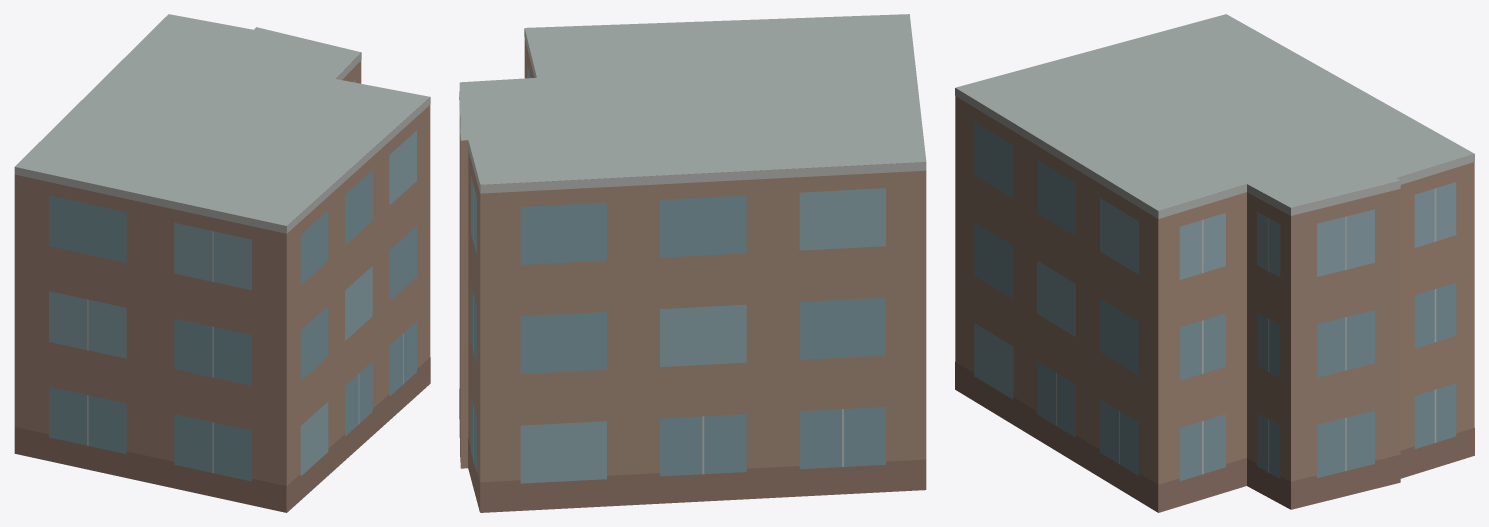
File: survey-upis-32656646.glb
The picture shows the model from 3 angles, left to right: view 1: azimuth 30°, elevation 25°; view 2: azimuth 150°, elevation 25°; view 3: azimuth 270°, elevation 25°; orthographic projection. The views are drawn at different scales.
Visible parts, largest first — view 1: survey-upis-32656646.tmp; view 2: survey-upis-32656646.tmp; view 3: survey-upis-32656646.tmp.
Boxes of the visible parts, x1=… form: survey-upis-32656646.tmp: x1=14, y1=14, x2=430, y2=512; survey-upis-32656646.tmp: x1=459, y1=14, x2=926, y2=512; survey-upis-32656646.tmp: x1=955, y1=14, x2=1474, y2=512.
Size of the model in its own units: 12.75 by 9.1 by 14.21.
